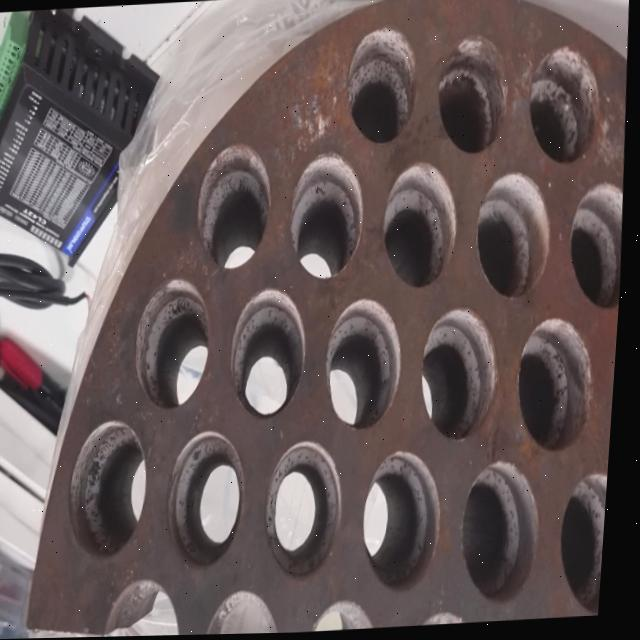Hole: (363, 449, 453, 596), (462, 459, 550, 608), (166, 428, 256, 573), (68, 419, 159, 561), (265, 439, 354, 583), (324, 296, 412, 436), (419, 307, 507, 444), (516, 317, 602, 457), (228, 287, 316, 423), (134, 277, 220, 413), (379, 161, 464, 293), (473, 171, 558, 303), (286, 151, 370, 282), (524, 45, 611, 170), (193, 142, 277, 271), (432, 35, 513, 159), (341, 25, 421, 148), (566, 183, 630, 316), (560, 471, 615, 620)
